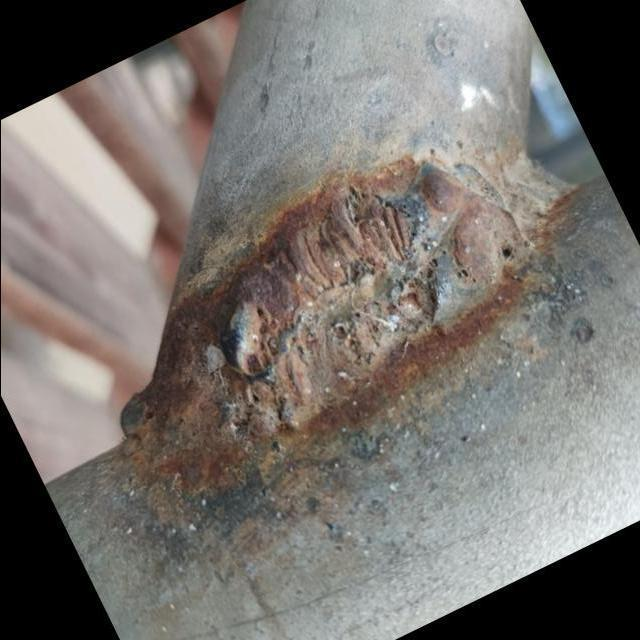defect: (346, 192, 424, 247), (390, 254, 445, 327), (241, 304, 284, 376), (348, 246, 392, 284), (332, 318, 366, 356), (454, 263, 481, 287), (497, 239, 518, 262), (246, 387, 264, 407), (272, 405, 284, 426)
